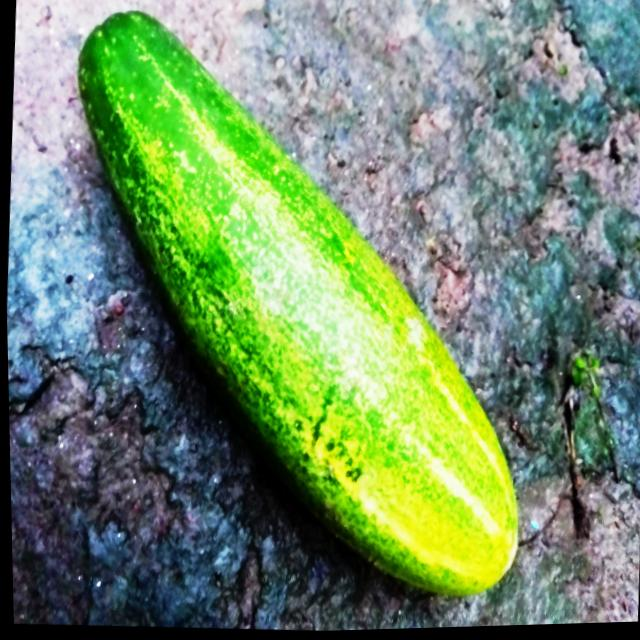Fresh-Cucumber: (47, 0, 548, 618)
